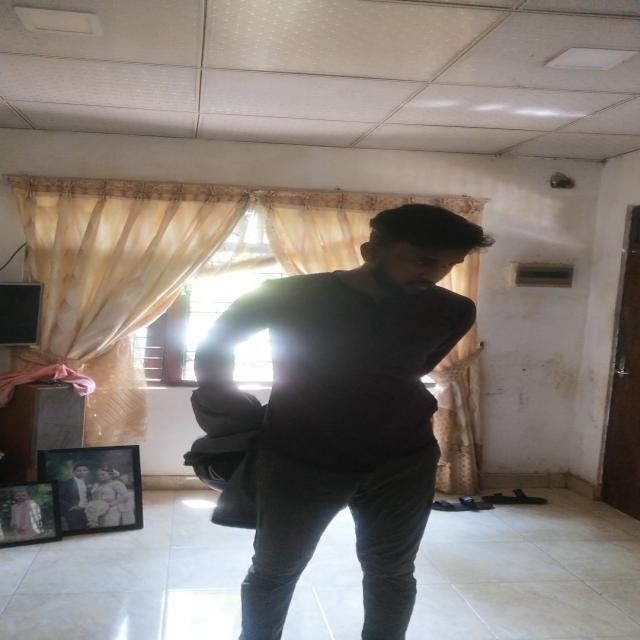Person: (213, 195, 501, 640)
